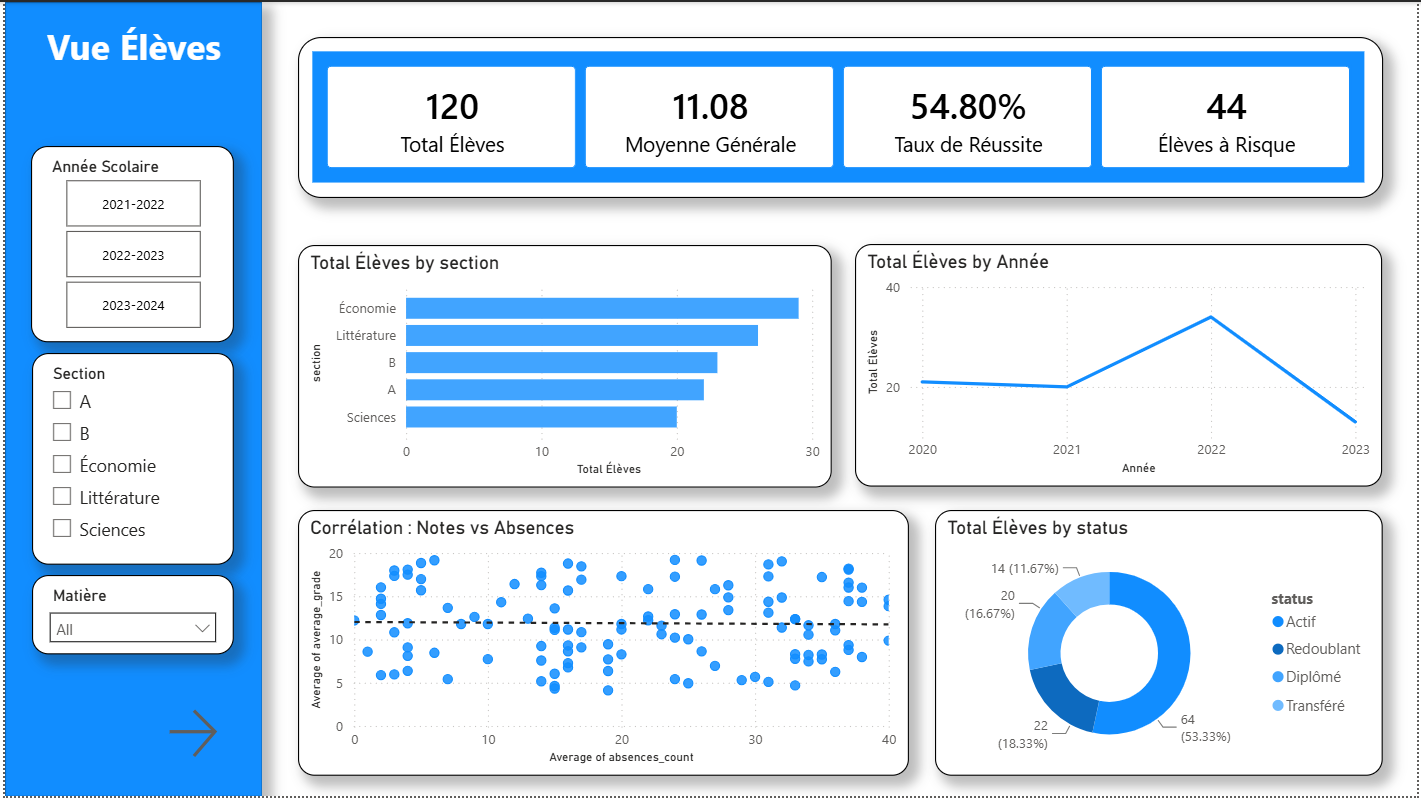

This screenshot's page, from the dashboard's own definition file:
{"tool":"powerbi","page":{"name":"Vue Élèves","canvas":[1280,720],"ordinal":0},"visuals":[{"type":"shape","box":[0,0,1280,719.5],"z":0},{"type":"cardVisual","fields":{"Data":["_Mesures.Total Élèves","_Mesures.Moyenne Générale","_Mesures.Taux de Réussite","_Mesures.Élèves à Risque"]},"box":[55.7,77.6,1169.6,145.4],"z":1000},{"type":"clusteredBarChart","fields":{"Category":["students.section","students.class_level"],"Y":["_Mesures.Total Élèves"]},"box":[54.7,244.9,585.9,219.7],"z":2000},{"type":"lineChart","fields":{"Y":["_Mesures.Total Élèves"],"Category":["DimDate.Année"]},"box":[640.5,244.9,583.7,219.7],"z":3000},{"type":"scatterChart","fields":{"X":["Avg(students.absences_count)"],"Y":["Avg(students.average_grade)"],"Category":["students.student_id"]},"box":[54.4,471.5,585.8,241.2],"z":4000},{"type":"donutChart","fields":{"Category":["students.status"],"Y":["_Mesures.Total Élèves"]},"box":[640.2,471.5,584,241.2],"z":5000},{"type":"textbox","box":[90.7,18.6,1099.6,66.7],"z":6000}]}

Visuals, with their boxes in screenshot pixels (x1, y1, x2, y2), scaled from the page's 1280x720 canvas onto the 1421x798 screenshot:
shape: [0, 0, 1420, 797]
cardVisual - _Mesures.Total Élèves x _Mesures.Moyenne Générale: [62, 86, 1360, 247]
clusteredBarChart - students.section x students.class_level: [61, 271, 711, 515]
lineChart - _Mesures.Total Élèves x DimDate.Année: [711, 271, 1359, 515]
scatterChart - Avg(students.absences_count) x Avg(students.average_grade): [60, 523, 711, 790]
donutChart - students.status x _Mesures.Total Élèves: [711, 523, 1359, 790]
textbox: [101, 21, 1321, 95]
